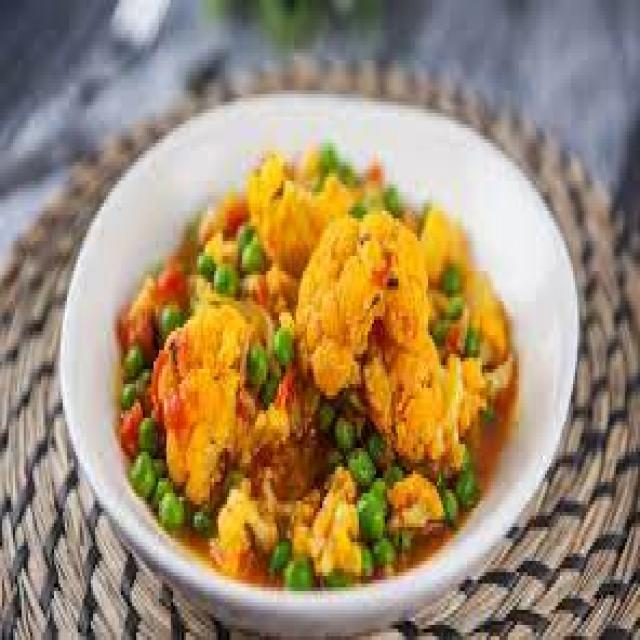Aloo Gobi: (135, 150, 543, 569)
